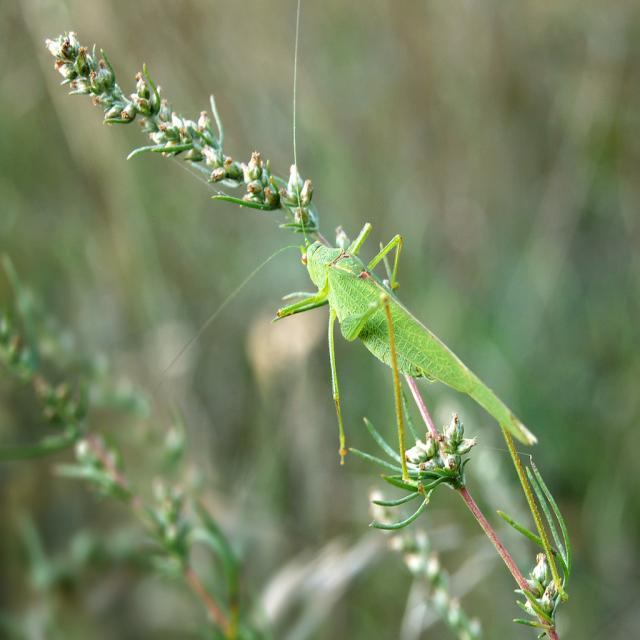ZhaMeng: (268, 206, 564, 503)
